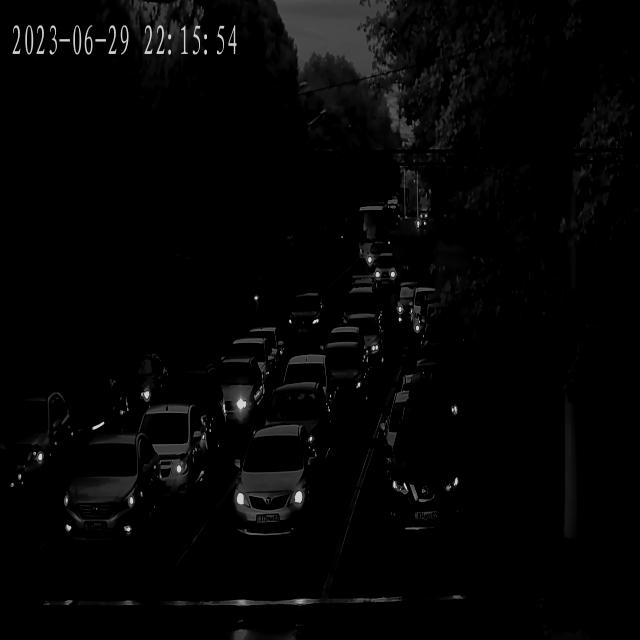Car: (383, 387, 468, 545), (60, 434, 164, 552), (239, 427, 321, 545), (248, 385, 332, 482), (0, 391, 73, 501), (128, 406, 208, 504), (153, 372, 227, 452), (288, 340, 368, 412), (393, 364, 462, 433), (271, 354, 338, 422), (105, 348, 170, 416), (200, 362, 267, 423), (218, 338, 272, 391), (0, 442, 26, 552), (406, 353, 464, 398), (323, 327, 374, 376), (238, 329, 285, 381), (417, 336, 467, 379), (341, 287, 386, 332), (408, 288, 448, 338), (288, 292, 328, 340), (395, 282, 433, 329), (362, 241, 393, 269), (372, 259, 399, 285)
Motorcycle: (252, 282, 262, 324)
